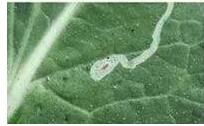liriomyza: (86, 2, 175, 82)
